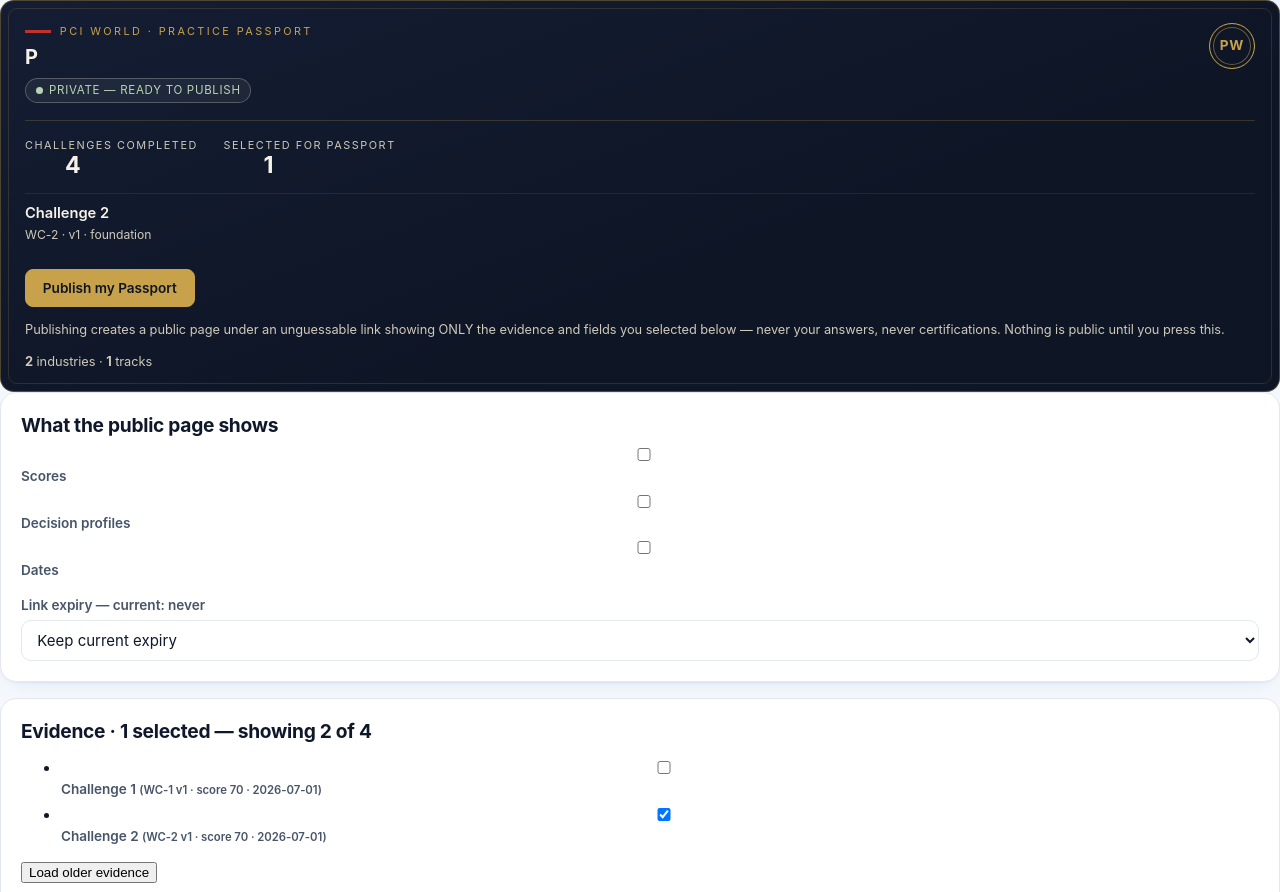
it: World Passport manager › a publish refusal renders the server message in place
Click the button "Publish my Passport" at [110, 288], box [25,269,194,307]
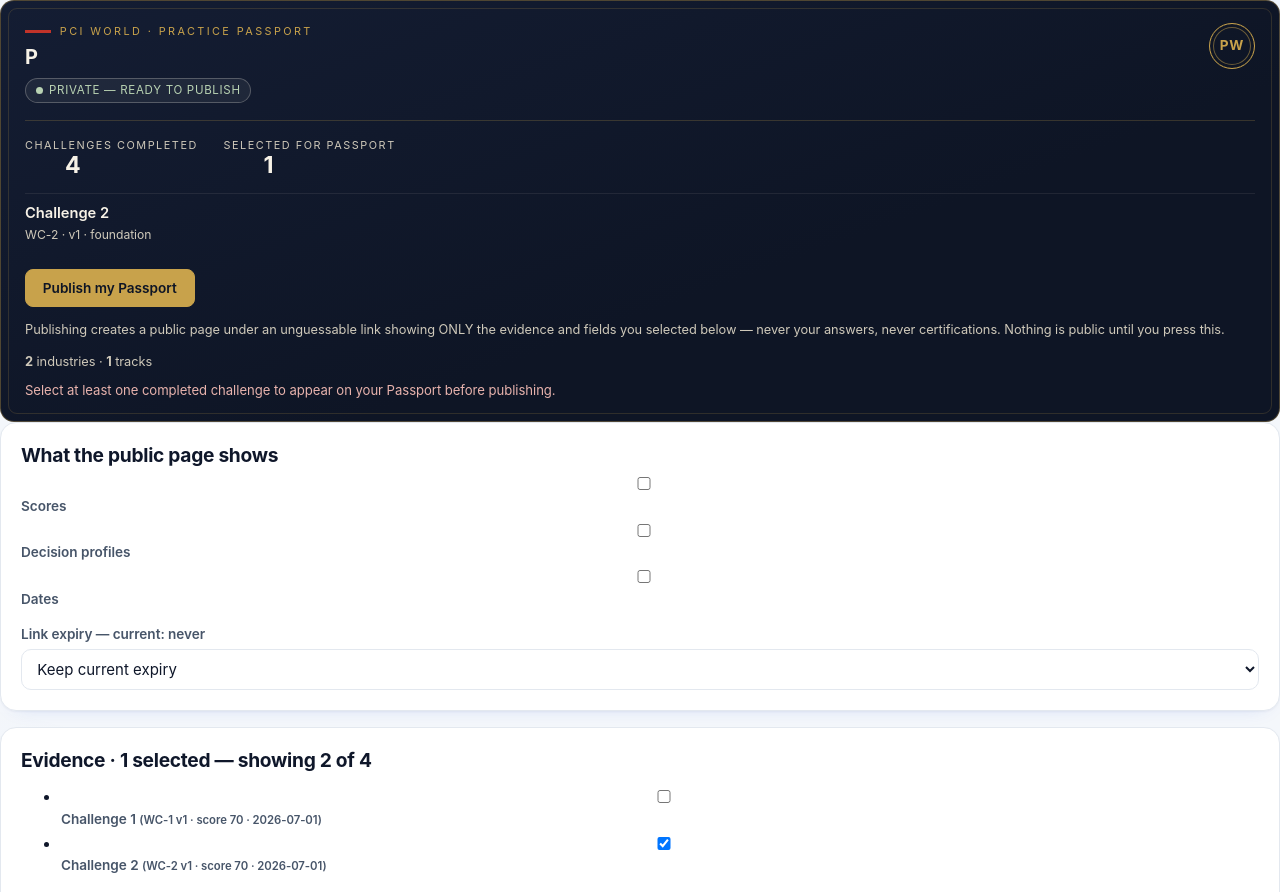
Now the message shows "Select at least one completed challenge", box [25,382,556,398]
